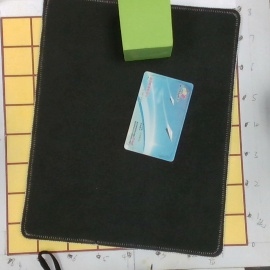card: (124, 70, 194, 164)
